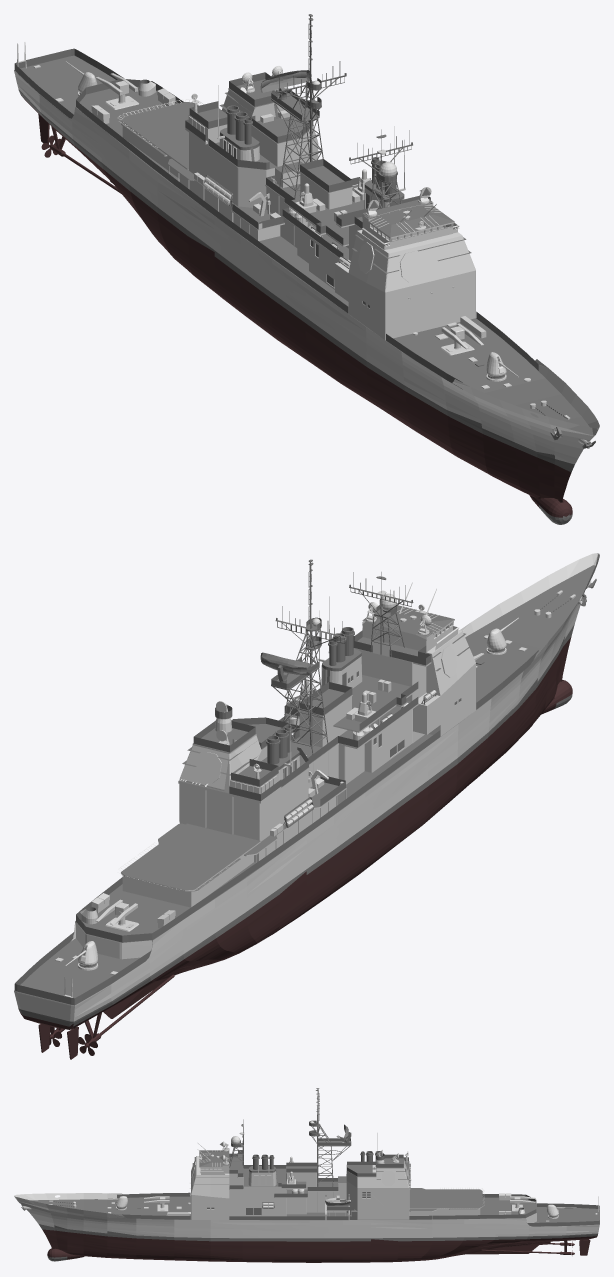
File: cruiserticonderoga.gltf
3 renders of one model, top to bottom at view 1: azimuth 30°, elevation 25°; view 2: azimuth 150°, elevation 25°; view 3: azimuth 270°, elevation 25°, orthographic. The views are drawn at different scales.
Parts seen in each view (by area): view 1: XYJ_TKDLJ; view 2: XYJ_TKDLJ; view 3: XYJ_TKDLJ.
Boxes of the visible parts, x1=… form: XYJ_TKDLJ: x1=14, y1=14, x2=599, y2=524; XYJ_TKDLJ: x1=14, y1=553, x2=599, y2=1059; XYJ_TKDLJ: x1=14, y1=1088, x2=599, y2=1262.
Bounding box in the file's own units: 2.18 × 7.27 × 22.4.
